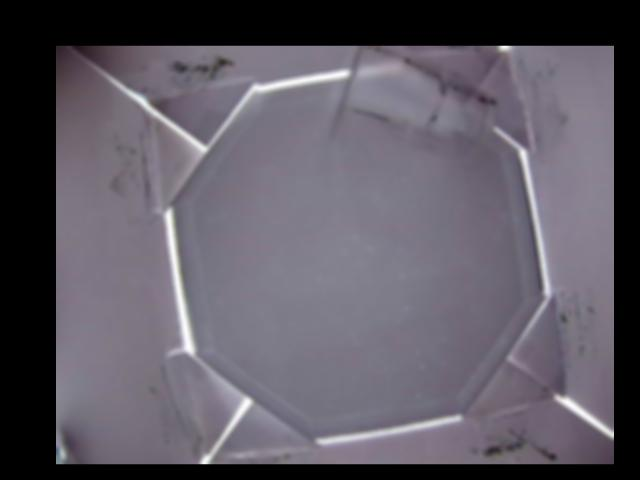Cup: (329, 46, 497, 163)
